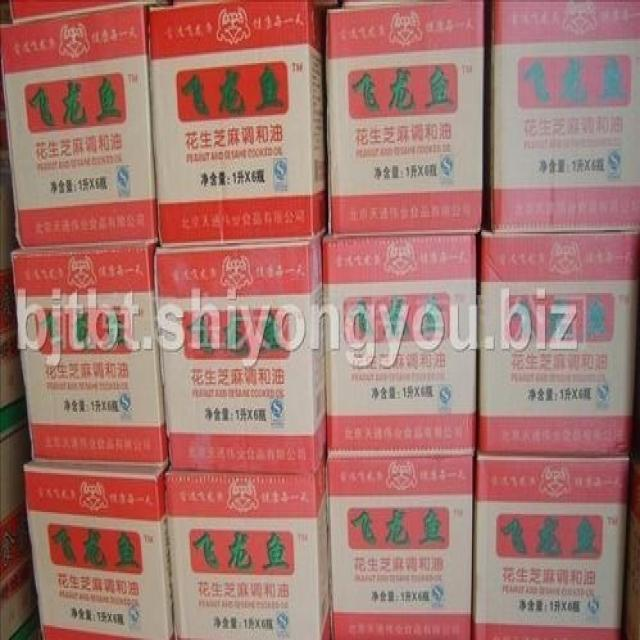box: (147, 2, 327, 249), (151, 236, 326, 475), (1, 6, 158, 252), (475, 230, 639, 454), (326, 0, 484, 232), (322, 232, 477, 460), (10, 245, 168, 467), (491, 0, 640, 234), (469, 453, 631, 640), (169, 464, 330, 640), (324, 454, 473, 638), (24, 462, 173, 640), (9, 2, 167, 22)
